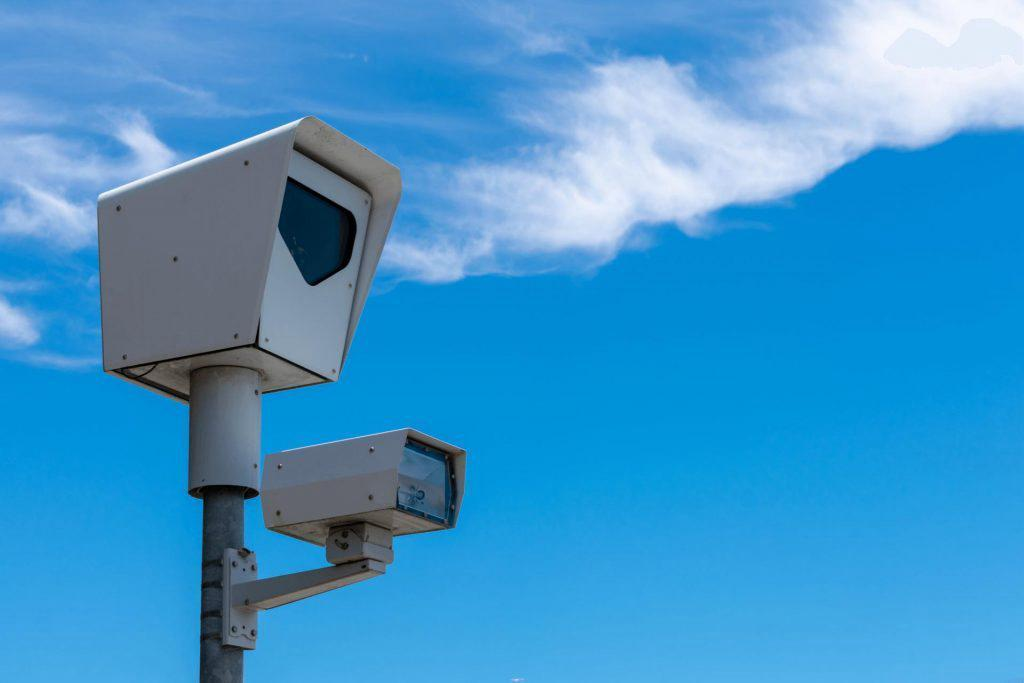Speed-Camera: (84, 110, 409, 393), (255, 420, 481, 555)
